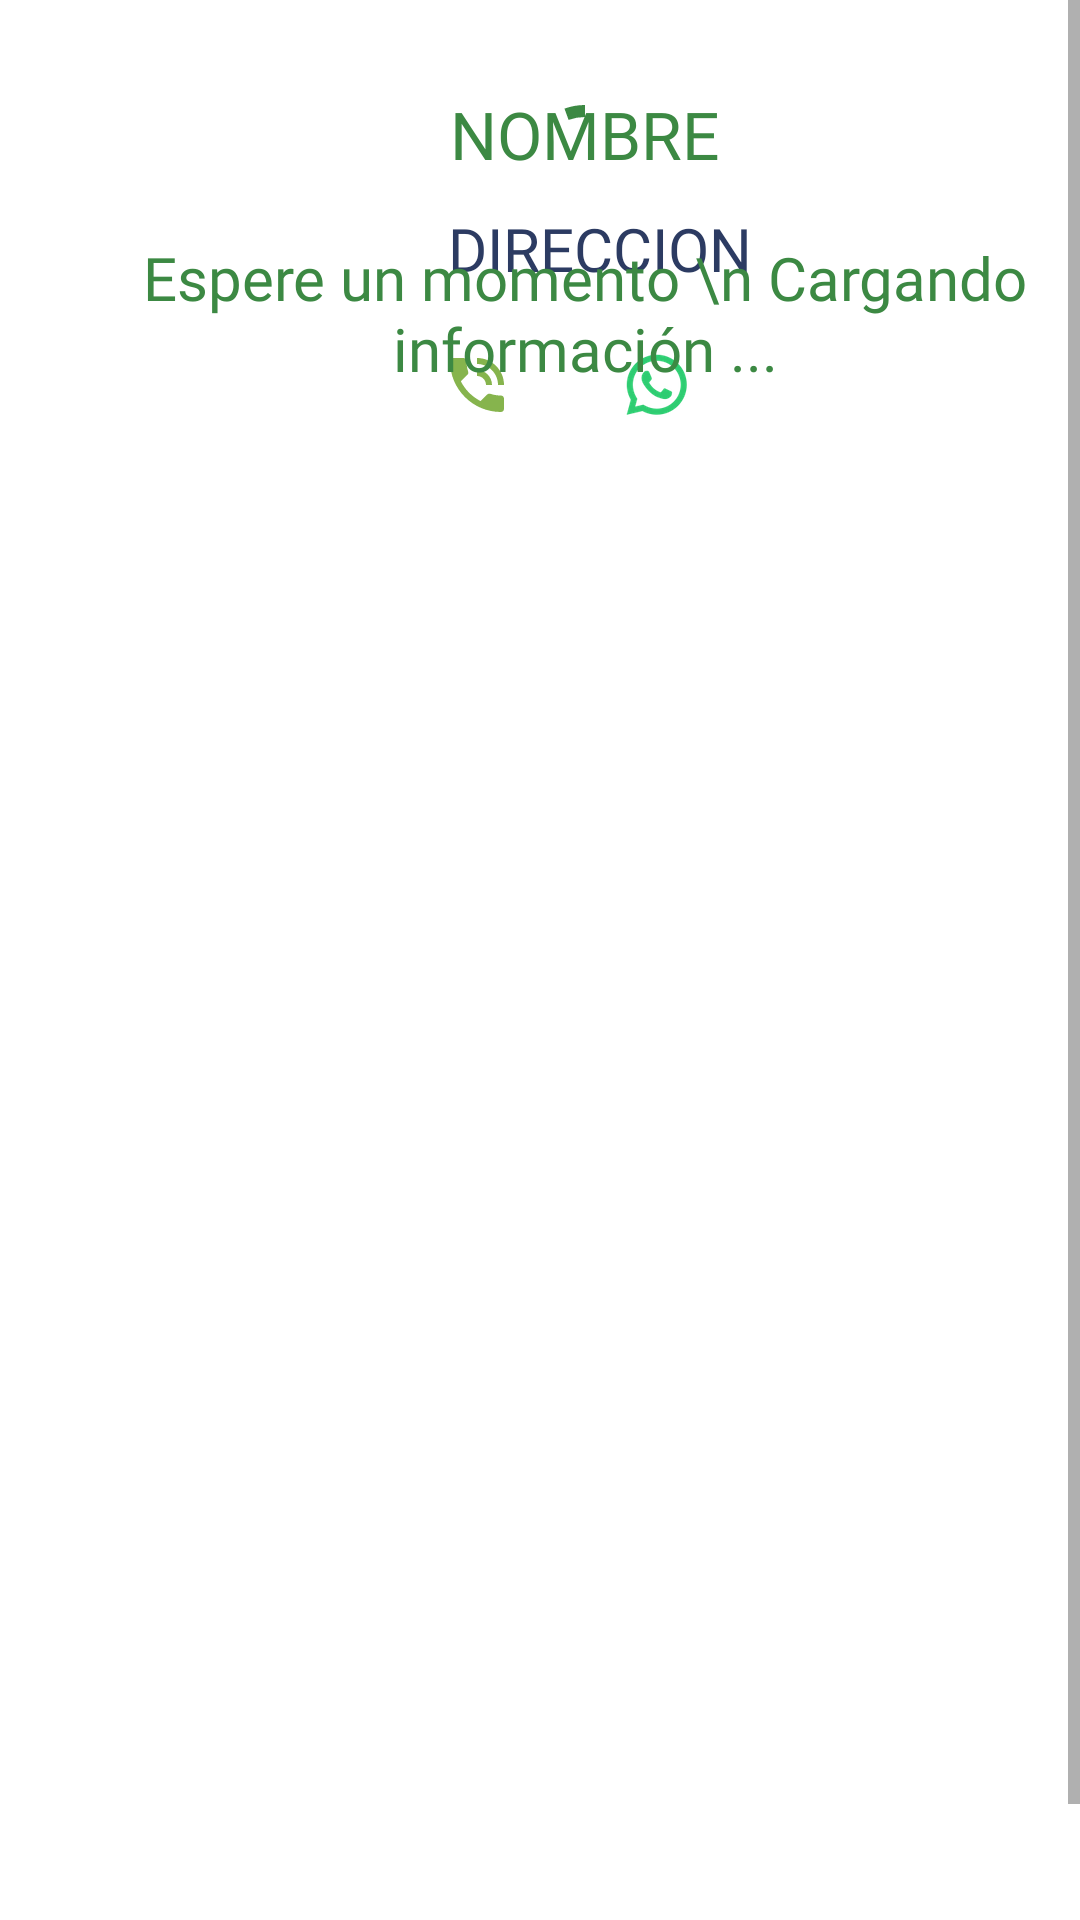

Icons on this 1080x1920 Android screen, each with its box as detection(x1, y1, x2, y2):
call: detection(447, 349, 506, 412)
